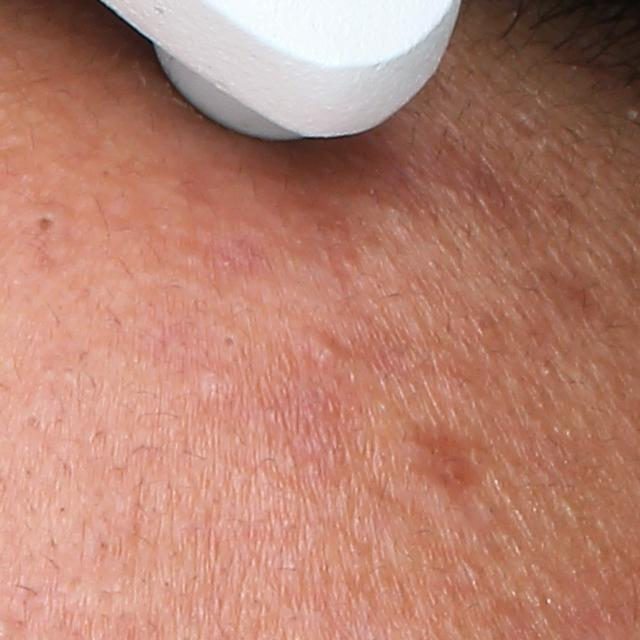atrophic_scar: (337, 129, 587, 231), (528, 262, 625, 329), (404, 421, 485, 501)
comedo: (198, 366, 221, 396), (216, 331, 245, 353)
